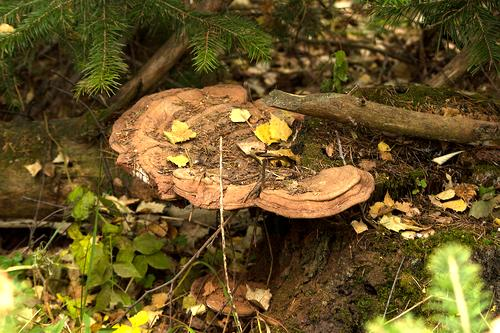Ganoderma - Fruit Body: (114, 84, 374, 225)
